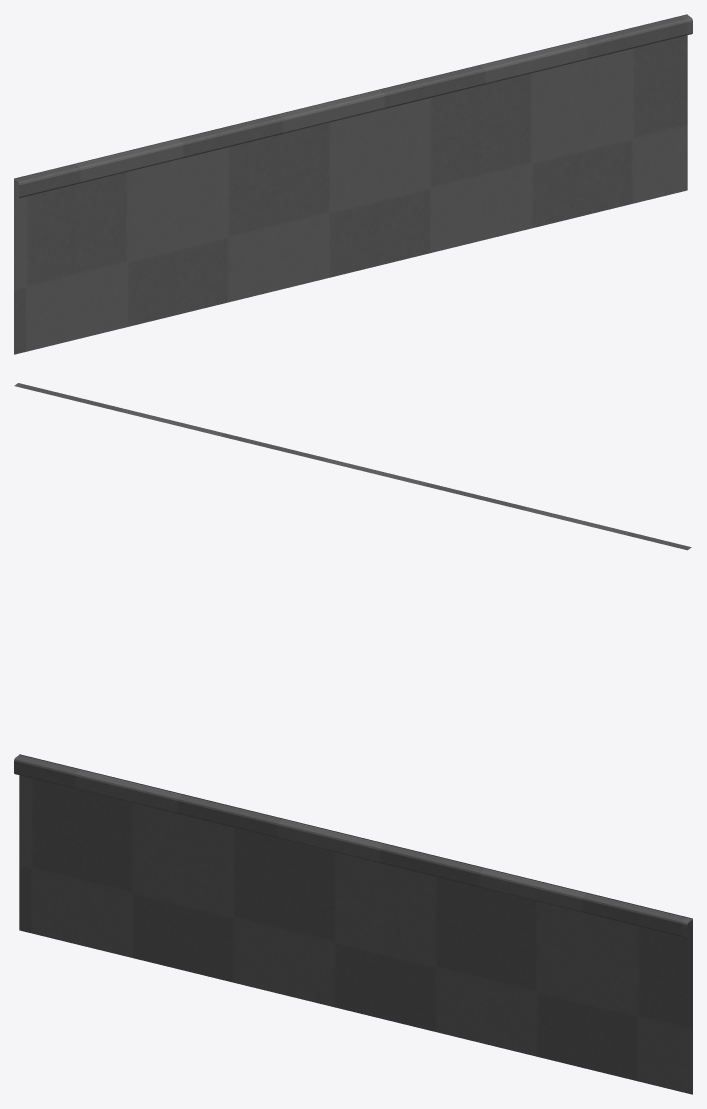
Rendered from SM_House_Base_200CM.glb.
The picture shows the model from 3 angles, top to bottom: view 1: azimuth 30°, elevation 25°; view 2: azimuth 150°, elevation 25°; view 3: azimuth 330°, elevation 25°; orthographic projection.
Visible parts, largest first — view 1: SM_House_Base_200CM; view 2: SM_House_Base_200CM; view 3: SM_House_Base_200CM.
Part boxes in pixels (x1,y1,x2,y2): SM_House_Base_200CM: (14, 14, 692, 354); SM_House_Base_200CM: (14, 383, 691, 550); SM_House_Base_200CM: (14, 754, 692, 1094).
Size of the model in its own units: 200 by 50 by 2.74.
Materials: 1 (1 with a texture image).
